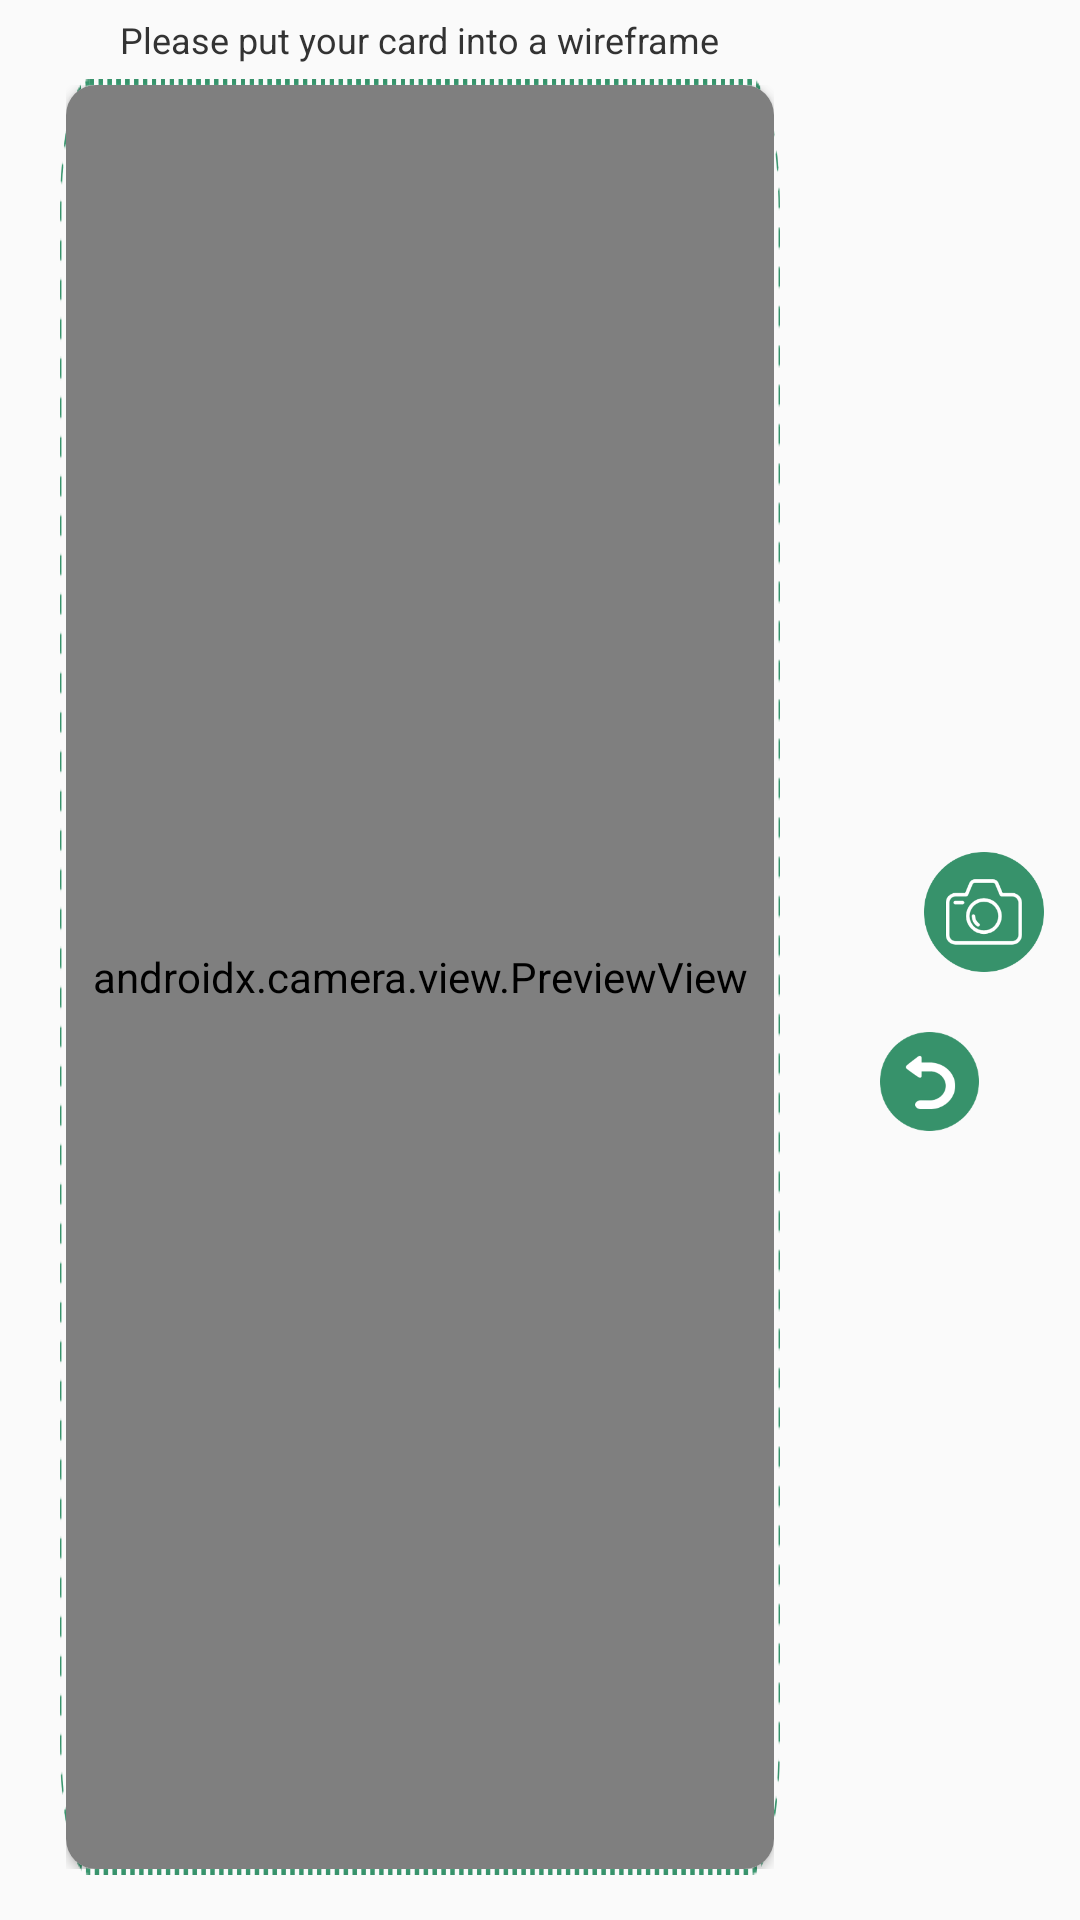

Screen size 1080×1920. Icon name, then its center in pixels as (x,y):
takcam: (984,912)
taktry: (929,1081)
